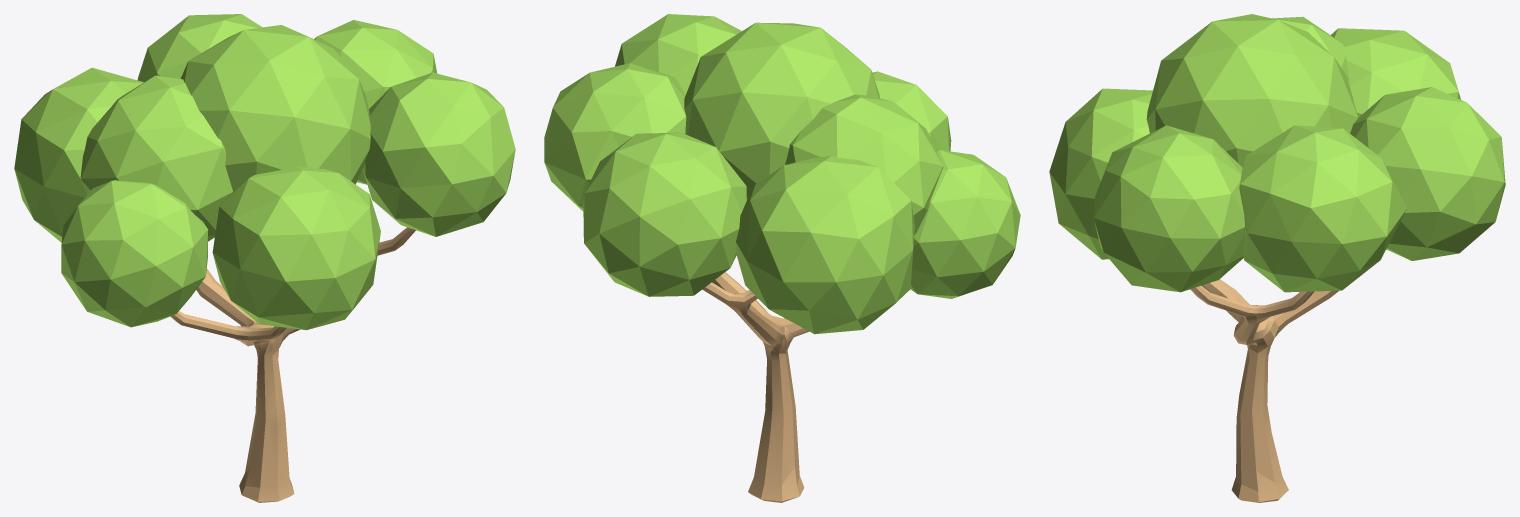
Rendered from Laubbaum001.fbx.
3 renders of one model, left to right at view 1: azimuth 30°, elevation 25°; view 2: azimuth 150°, elevation 25°; view 3: azimuth 270°, elevation 25°, orthographic.
Visible parts, largest first — view 1: Laubbaum2; view 2: Laubbaum2; view 3: Laubbaum2.
Boxes of the visible parts, x1=… form: Laubbaum2: x1=14, y1=14, x2=515, y2=502; Laubbaum2: x1=544, y1=14, x2=1020, y2=502; Laubbaum2: x1=1049, y1=14, x2=1505, y2=502.
Size of the model in its own units: 1072 by 1139 by 1008.
